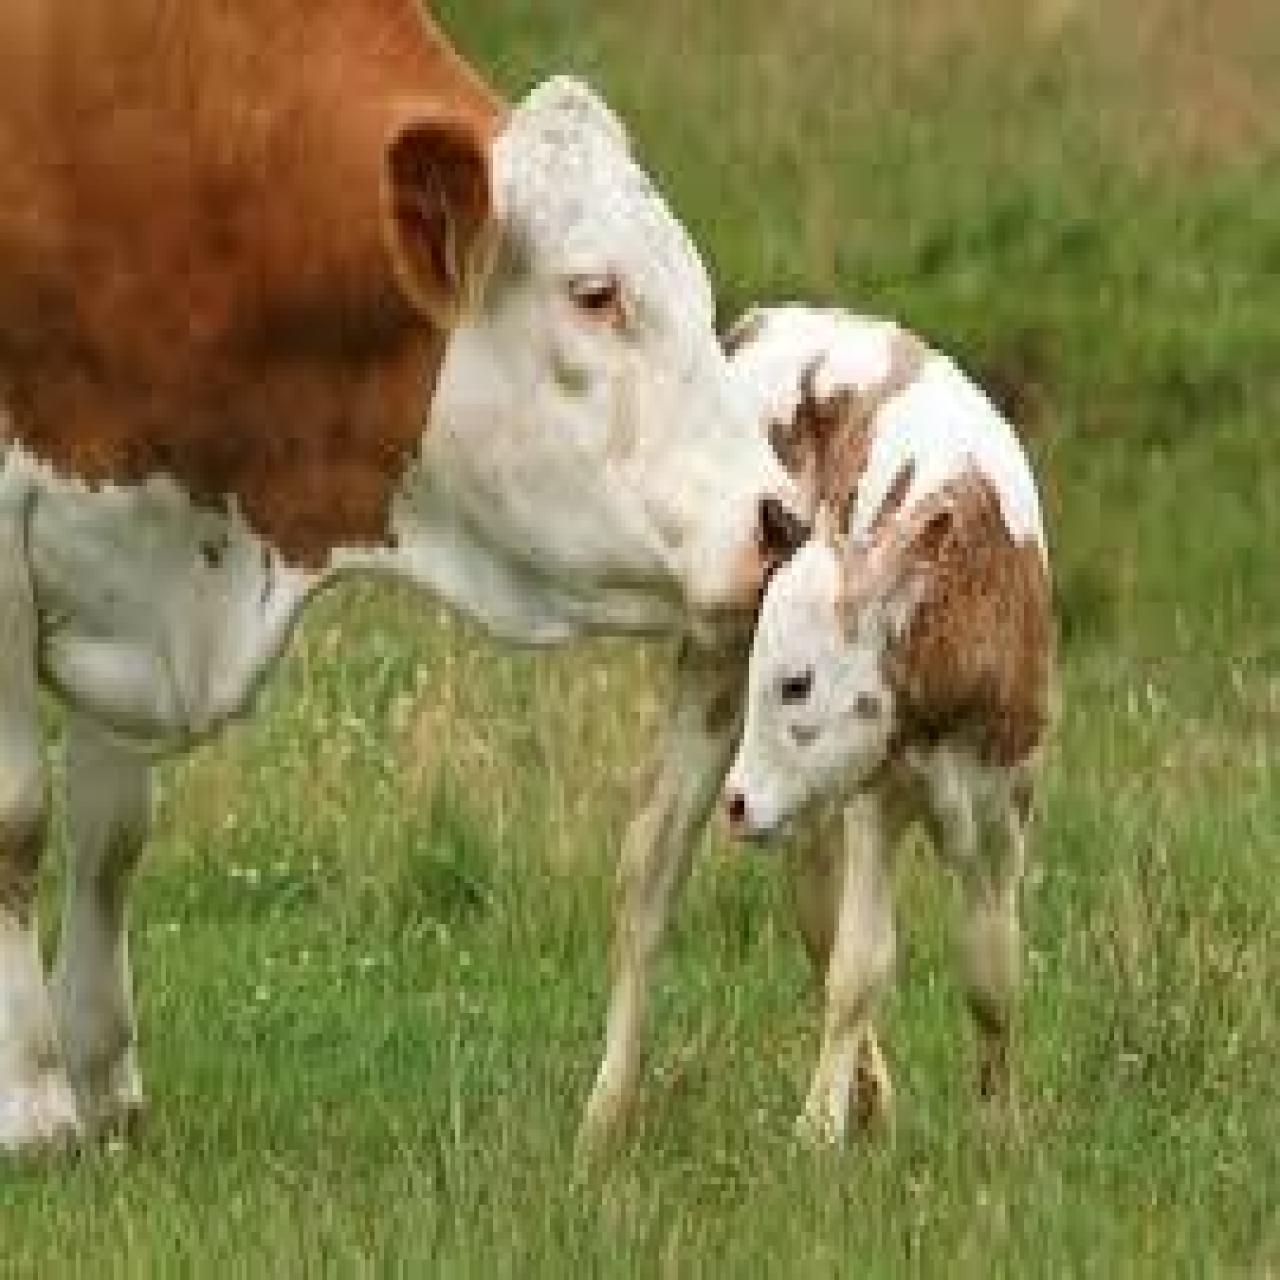cow: (0, 11, 811, 1160), (581, 319, 1055, 1125)
